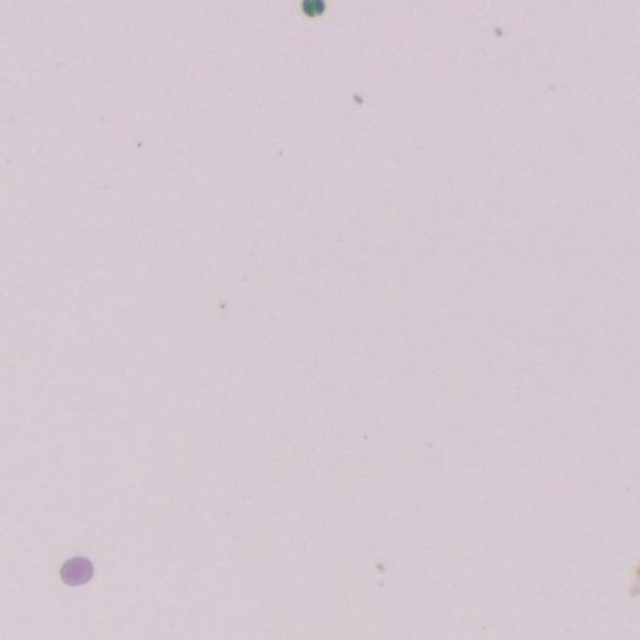intermediate: (60, 556, 93, 585)
non_viable: (301, 0, 324, 17)
